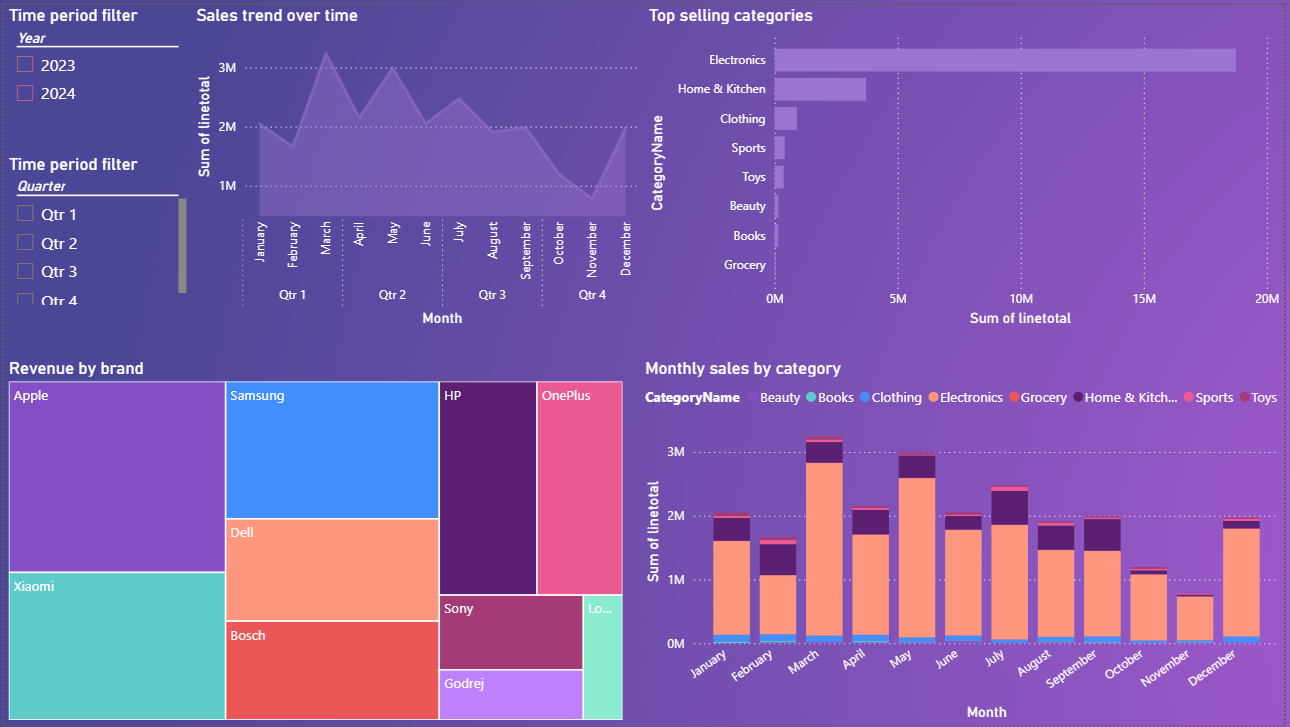

The dashboard page shown, as its layout file describes it:
{"tool":"powerbi","page":{"name":"Page 2","canvas":[1280,720],"ordinal":1},"visuals":[{"type":"areaChart","title":"Sales trend over time","fields":{"Category":["project orders.orderdate.Variation.Date Hierarchy.Quarter","project orders.orderdate.Variation.Date Hierarchy.Month"],"Y":["Sum(project orderitem.linetotal)"]},"box":[187.5,0,452.5,326.2],"z":0},{"type":"clusteredBarChart","title":"Top selling categories","fields":{"Category":["project category.CategoryName"],"Y":["Sum(project orderitem.linetotal)"]},"box":[640,0,640,326.2],"z":1000},{"type":"treemap","title":"Revenue by brand","fields":{"Values":["Sum(project orderitem.linetotal)"],"Group":["project products.brand"]},"box":[0,352.5,623.8,367.5],"z":2000},{"type":"columnChart","title":"Monthly sales by category","fields":{"Y":["Sum(project orderitem.linetotal)"],"Category":["project orders.orderdate.Variation.Date Hierarchy.Month"],"Series":["project category.CategoryName"]},"box":[636.2,352.5,643.8,367.5],"z":3000},{"type":"slicer","title":"Time period filter","fields":{"Values":["project orders.orderdate.Variation.Date Hierarchy.Year"]},"box":[0,0,187.5,148.8],"z":4000},{"type":"slicer","title":"Time period filter","fields":{"Values":["project orders.orderdate.Variation.Date Hierarchy.Quarter"]},"box":[0,148.8,187.5,156.2],"z":5000}]}

Visuals, with their boxes in screenshot pixels (x1, y1, x2, y2), scaled from the page's 1280x720 canvas onto the 1290x727 screenshot:
"Sales trend over time" areaChart: bbox=[189, 0, 645, 329]
"Top selling categories" clusteredBarChart: bbox=[645, 0, 1289, 329]
"Revenue by brand" treemap: bbox=[0, 356, 629, 726]
"Monthly sales by category" columnChart: bbox=[641, 356, 1289, 726]
"Time period filter" slicer: bbox=[0, 0, 189, 150]
"Time period filter" slicer: bbox=[0, 150, 189, 308]
